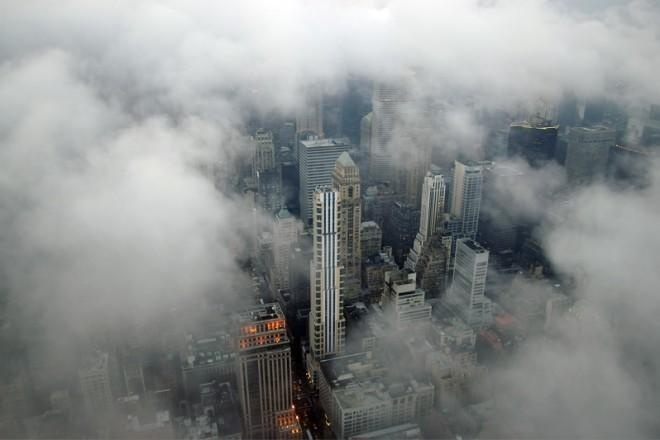fire: (240, 316, 287, 341)
